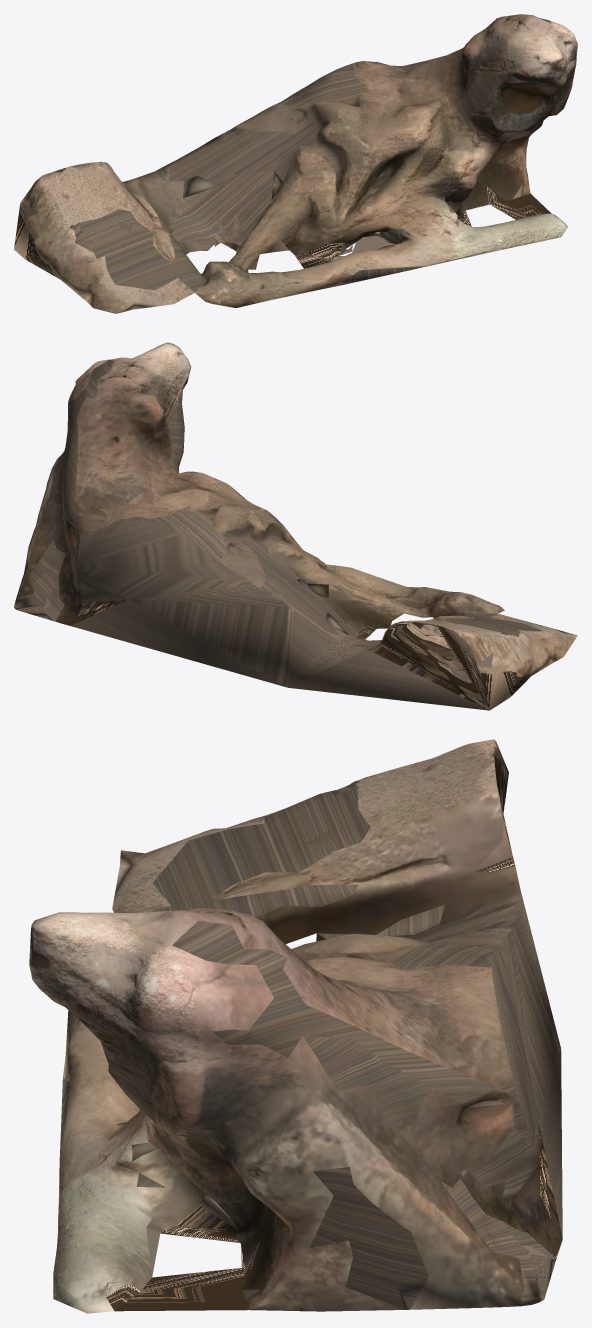
File: 02_dog.glb
The picture shows the model from 3 angles, top to bottom: view 1: azimuth 30°, elevation 25°; view 2: azimuth 150°, elevation 25°; view 3: azimuth 270°, elevation 25°; orthographic projection. The views are drawn at different scales.
Visible parts, largest first — view 1: Mesh_0; view 2: Mesh_0; view 3: Mesh_0.
Boxes of the visible parts, x1=… form: Mesh_0: x1=14, y1=14, x2=577, y2=313; Mesh_0: x1=14, y1=342, x2=577, y2=710; Mesh_0: x1=29, y1=739, x2=562, y2=1313.
Size of the model in its own units: 1.75 by 0.6711 by 0.8334.
4 materials, 4 textured.
